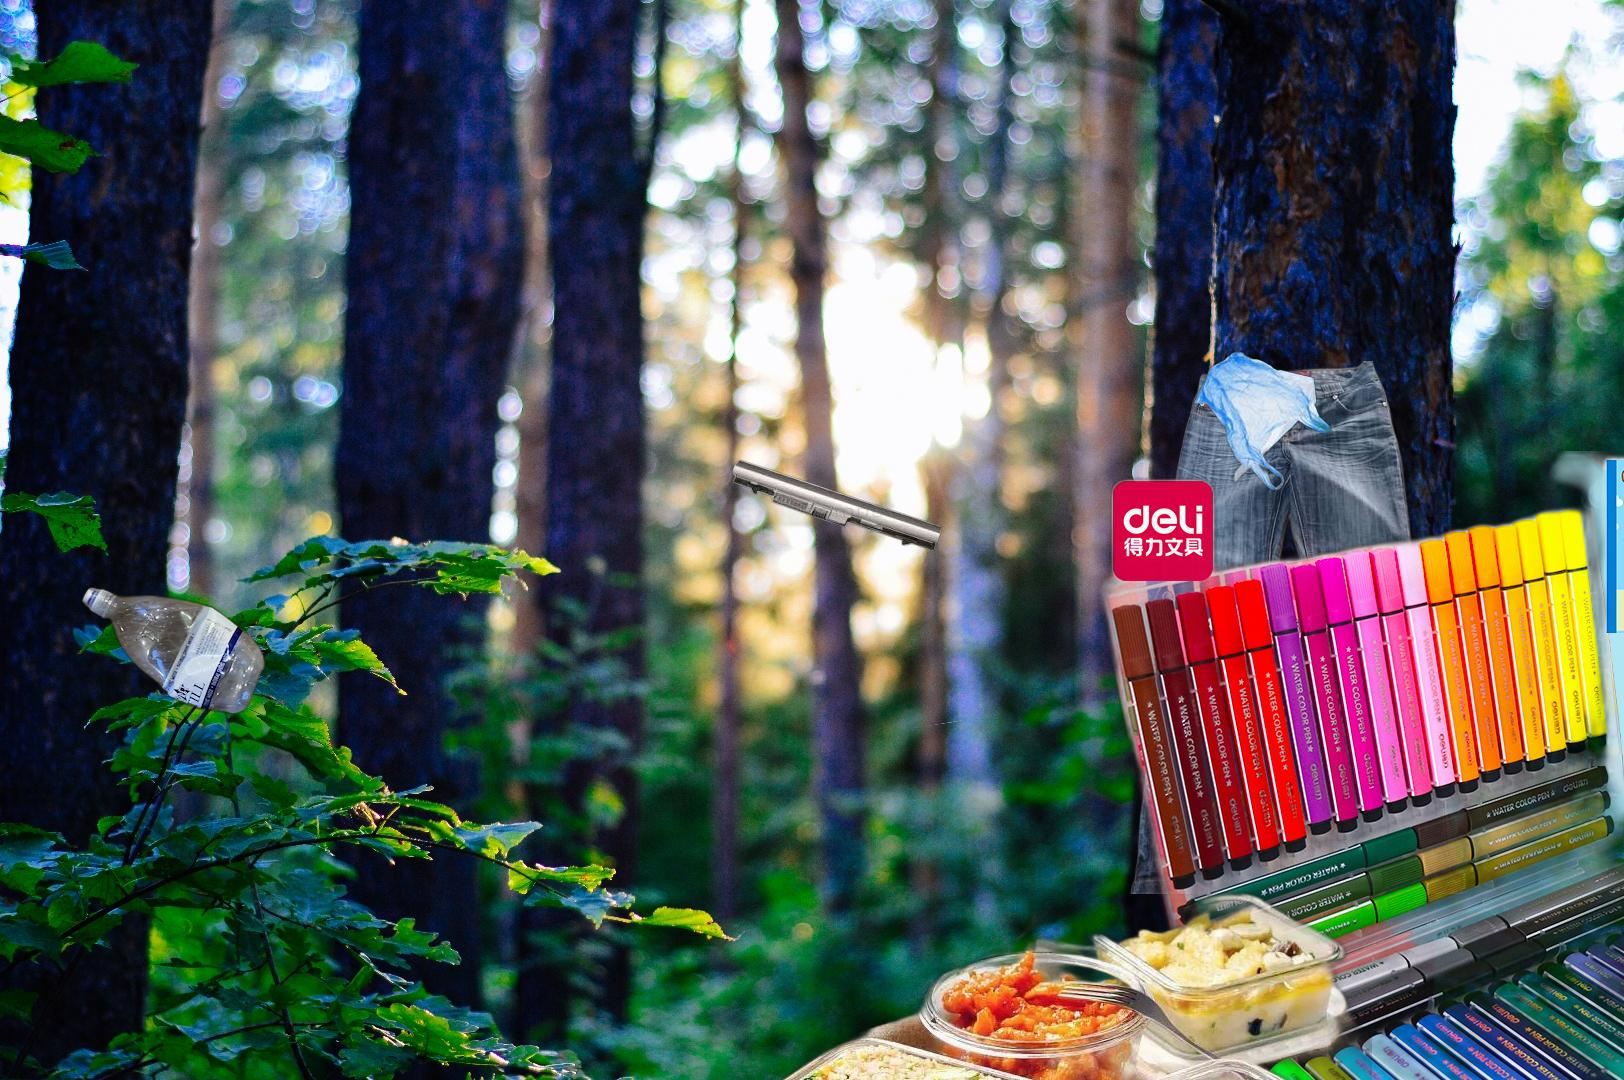battery: (694, 456, 945, 601)
biological: (751, 802, 1372, 1080)
clothes: (1126, 360, 1467, 894)
metal-cans: (1606, 354, 1624, 835)
penholder: (1081, 451, 1624, 1080)
plastic-bag: (1191, 350, 1334, 493)
plastic-bottles: (78, 582, 267, 720)
